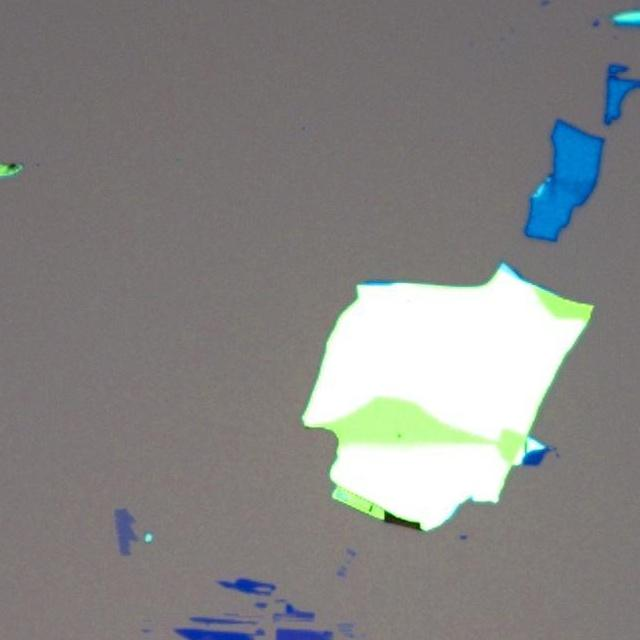monolayer-eWW4: (114, 507, 139, 557)
